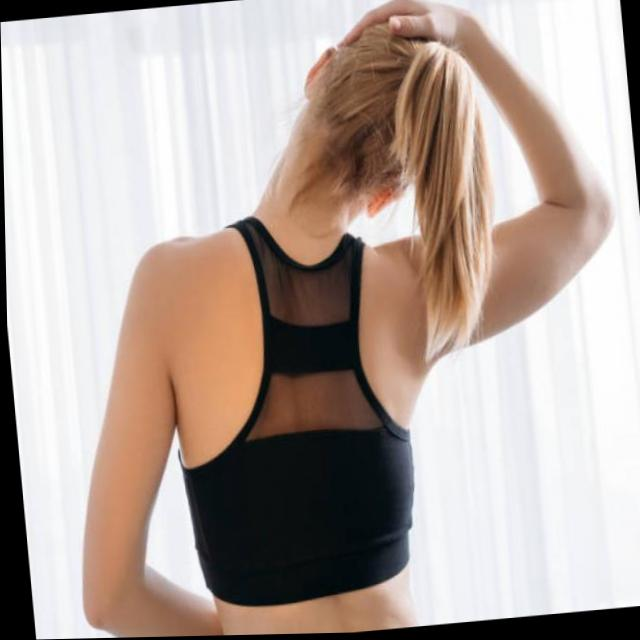no helmet: (282, 5, 487, 272)
